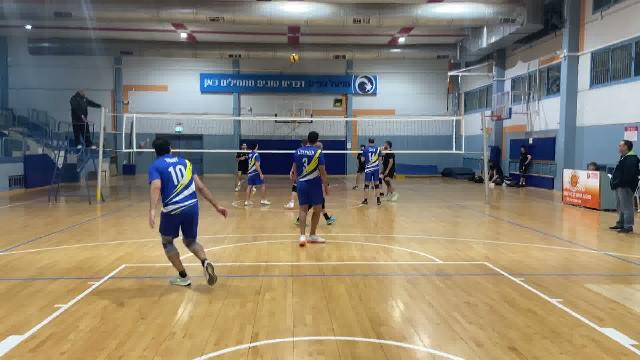ball: (289, 53, 302, 66)
